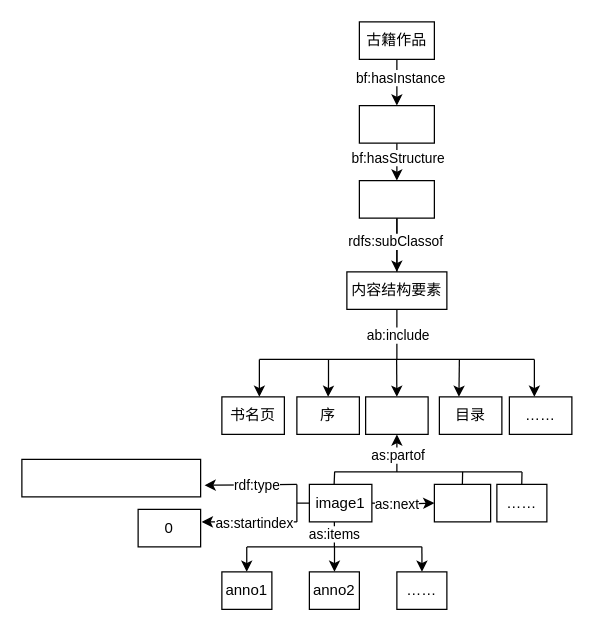
Some shapes in this 594 by 631 pixel diagram are drawn without their labels. Here are the shapes that lost their labels. From the top down, the centre of each, then its label:
(396,123): 古籍实例
(396,198): 内容结构
(396,415): 凡例
(111,477): as:OrderedCollectionPage
(462,502): image2
